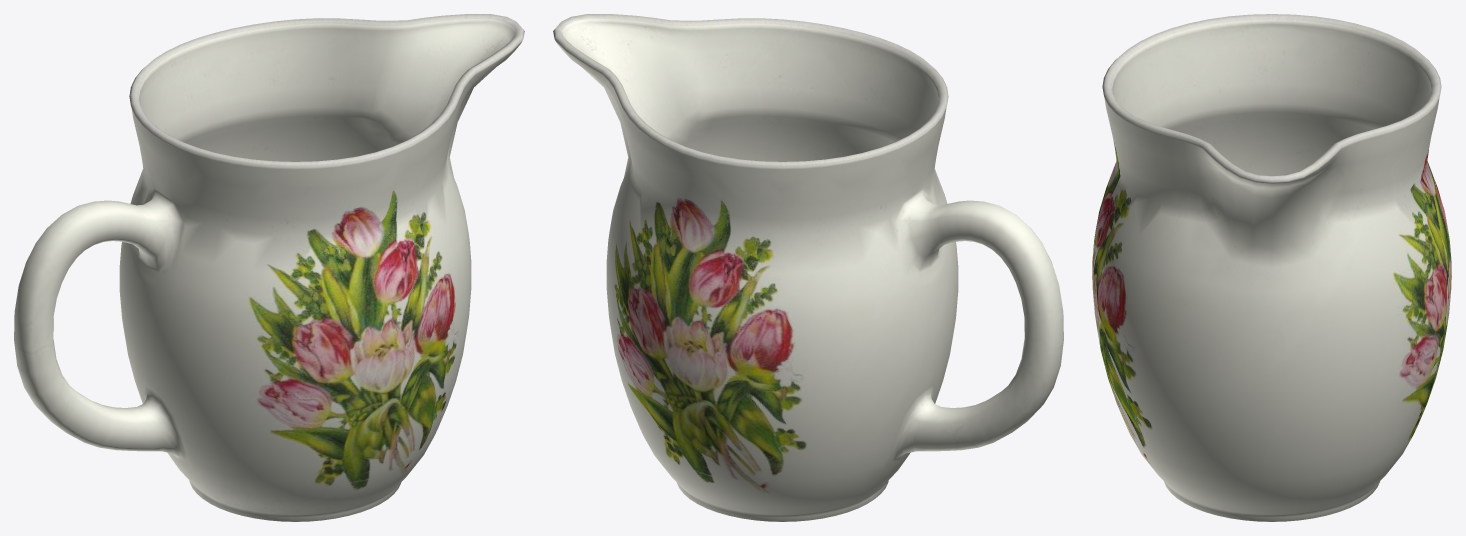
Rendered from jug_01.glb.
The picture shows the model from 3 angles, left to right: view 1: azimuth 30°, elevation 25°; view 2: azimuth 150°, elevation 25°; view 3: azimuth 270°, elevation 25°; orthographic projection. The views are drawn at different scales.
Visible parts, largest first — view 1: jug_01; view 2: jug_01; view 3: jug_01.
Part boxes in pixels (left/top/right/bottom): jug_01: left=14, top=14, right=524, bottom=521; jug_01: left=553, top=14, right=1063, bottom=521; jug_01: left=1092, top=14, right=1451, bottom=521.
Size of the model in its own units: 0.2753 by 0.2113 by 0.1675.
Materials: 1 (1 with a texture image).
